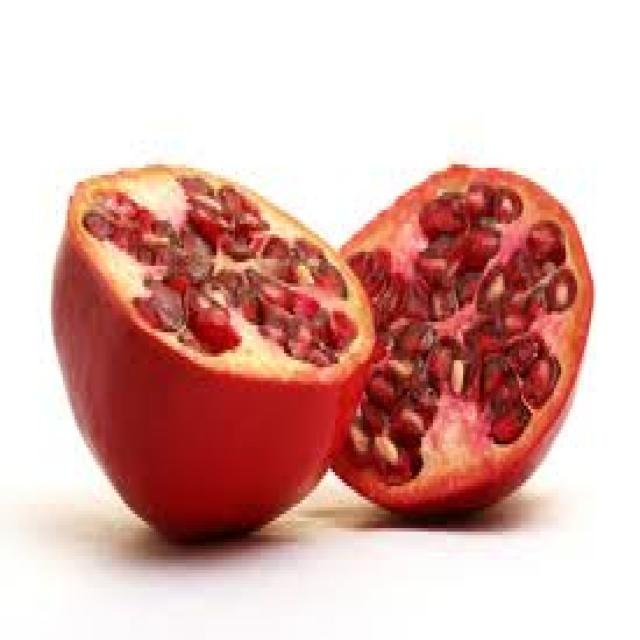pomegranate: (32, 140, 602, 580)
